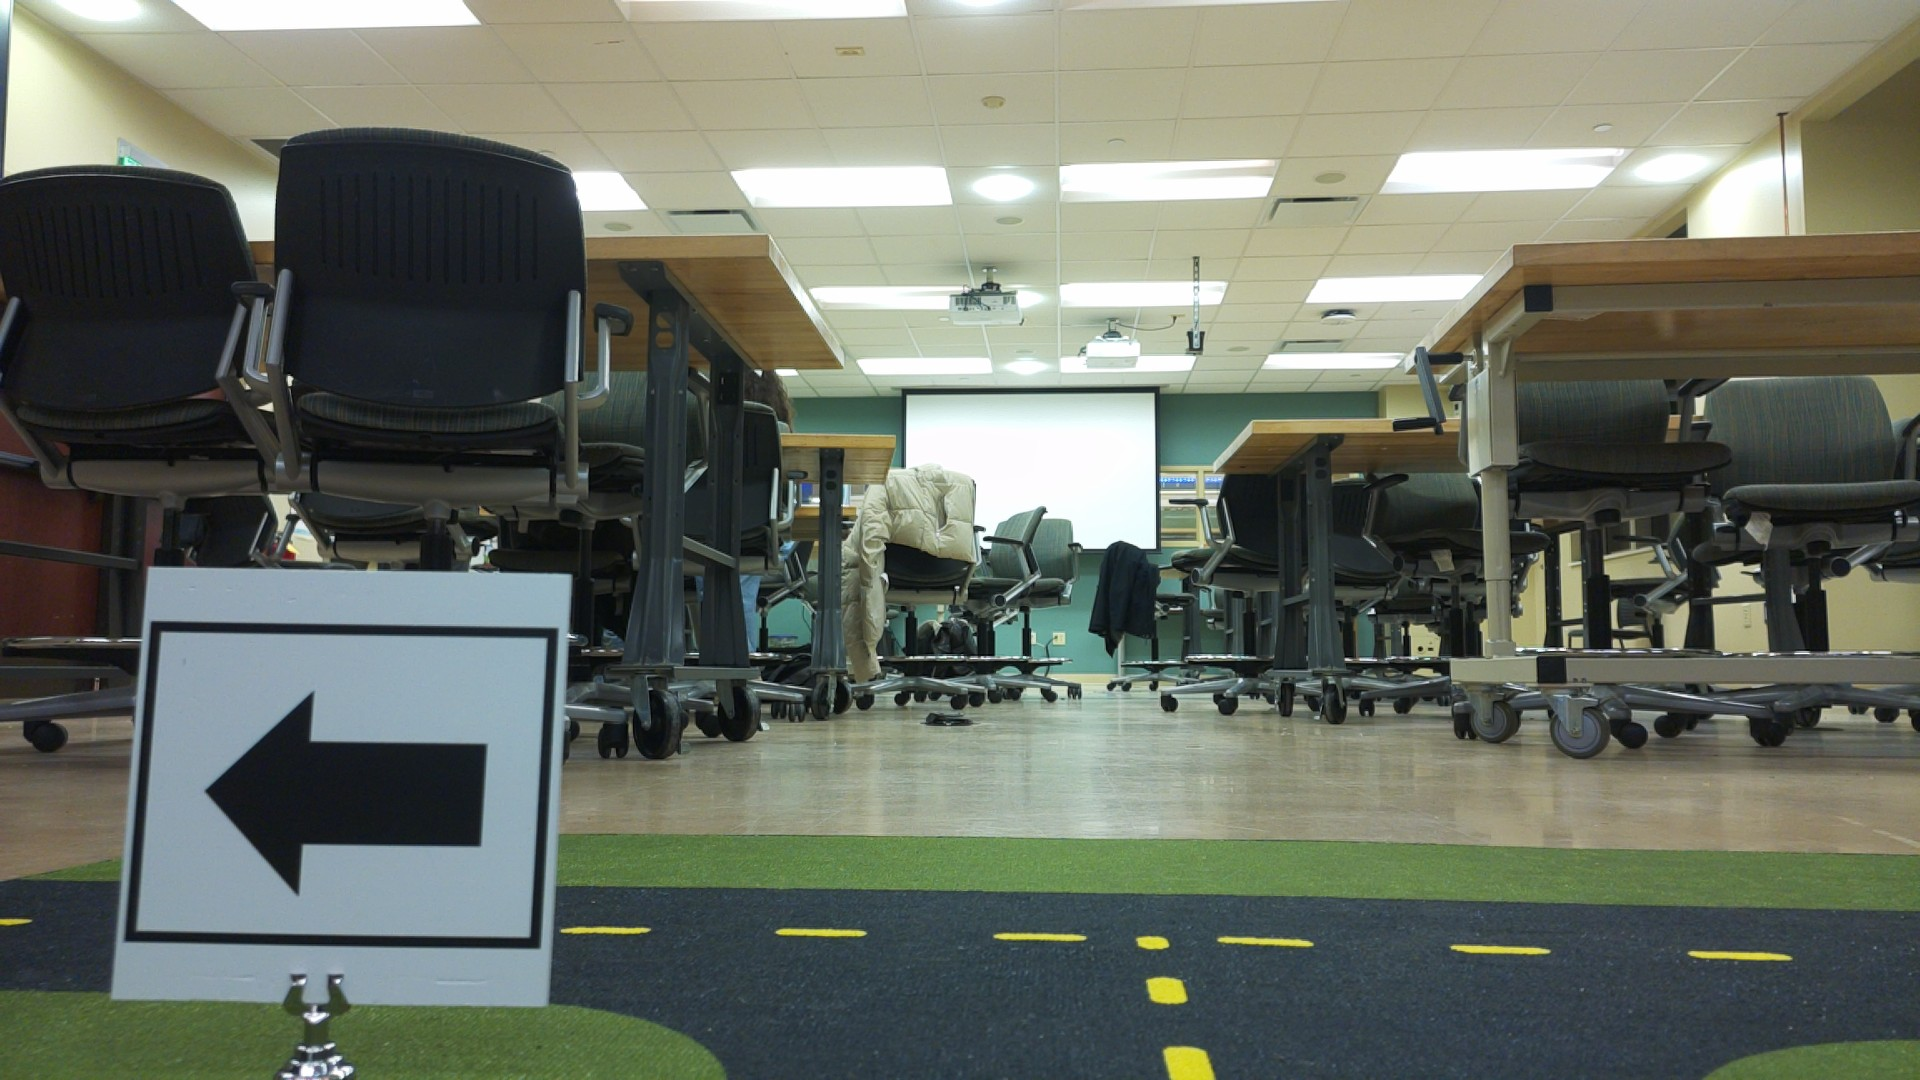turnleft: (141, 574, 563, 1000)
